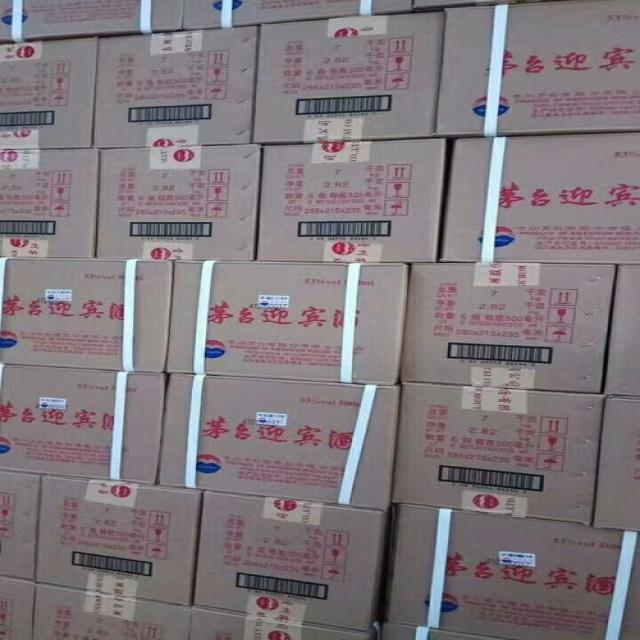box: (371, 505, 639, 639), (162, 370, 397, 509), (389, 381, 604, 526), (170, 258, 413, 384), (190, 492, 394, 634), (398, 262, 613, 395), (437, 1, 639, 136), (441, 132, 639, 263), (255, 10, 445, 145), (256, 138, 451, 262), (84, 24, 265, 149), (35, 472, 202, 606), (0, 363, 170, 486), (0, 257, 173, 372), (96, 143, 263, 261), (3, 36, 100, 152), (3, 147, 100, 260), (28, 581, 190, 638), (0, 0, 179, 38), (181, 605, 373, 638), (595, 263, 639, 396), (596, 397, 639, 532), (179, 2, 413, 26), (0, 467, 44, 584), (371, 621, 500, 639), (0, 574, 35, 639), (413, 1, 521, 13)
